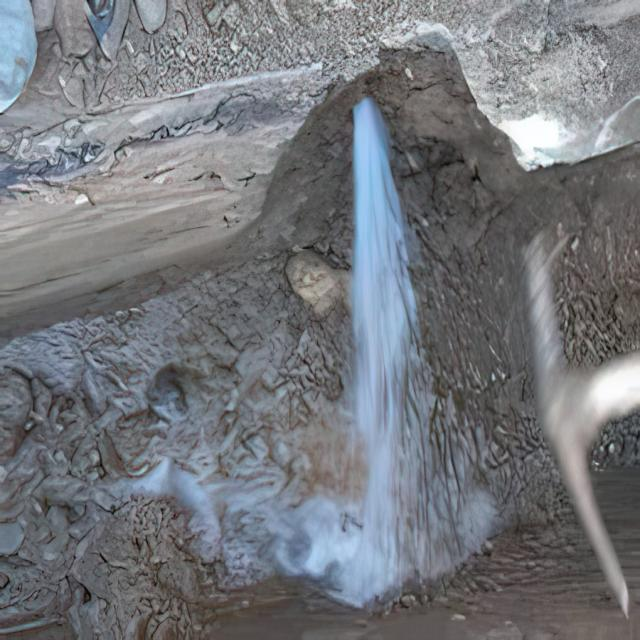leak: (338, 98, 496, 604)
